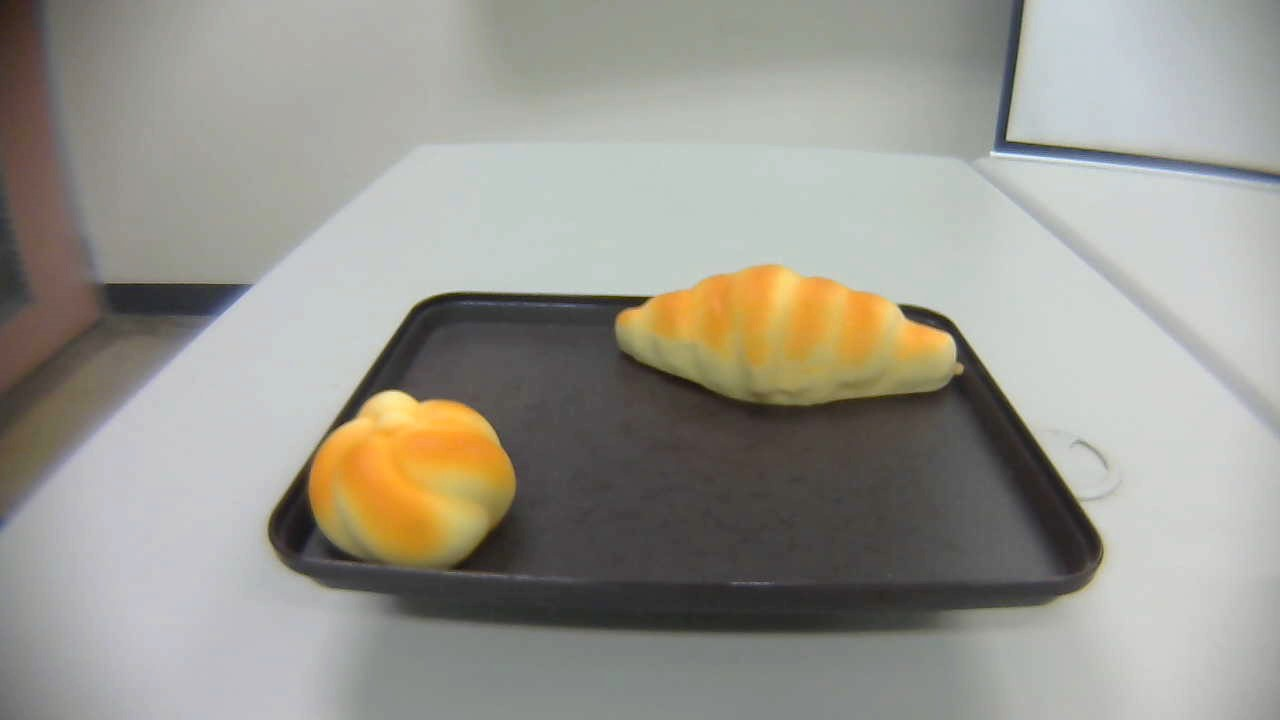croissant: (613, 262, 968, 408)
twist bread: (306, 387, 517, 570)
